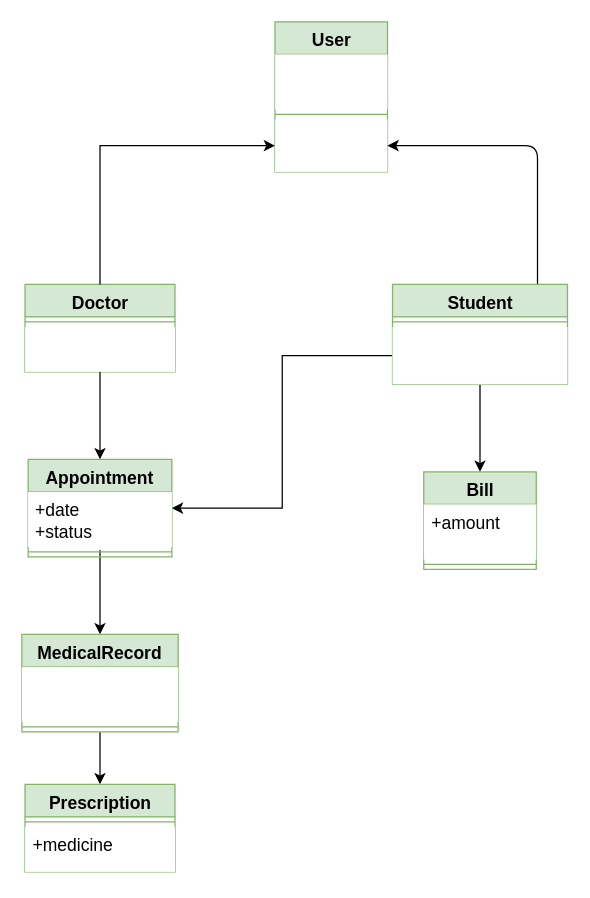
This 590x898 diagram has some shape labels left out. Here are the shapes that lost their labels. From the top down, the centre of each, then its label:
(330,81): +id +name
(330,145): +login()
(99,348): diagnose()
(479,355): bookAppointment()
(99,693): +diagnosis
